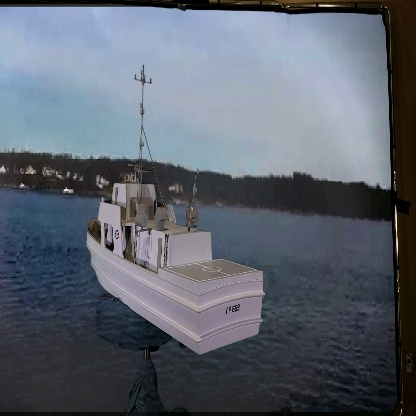YP689: (83, 59, 271, 359)
